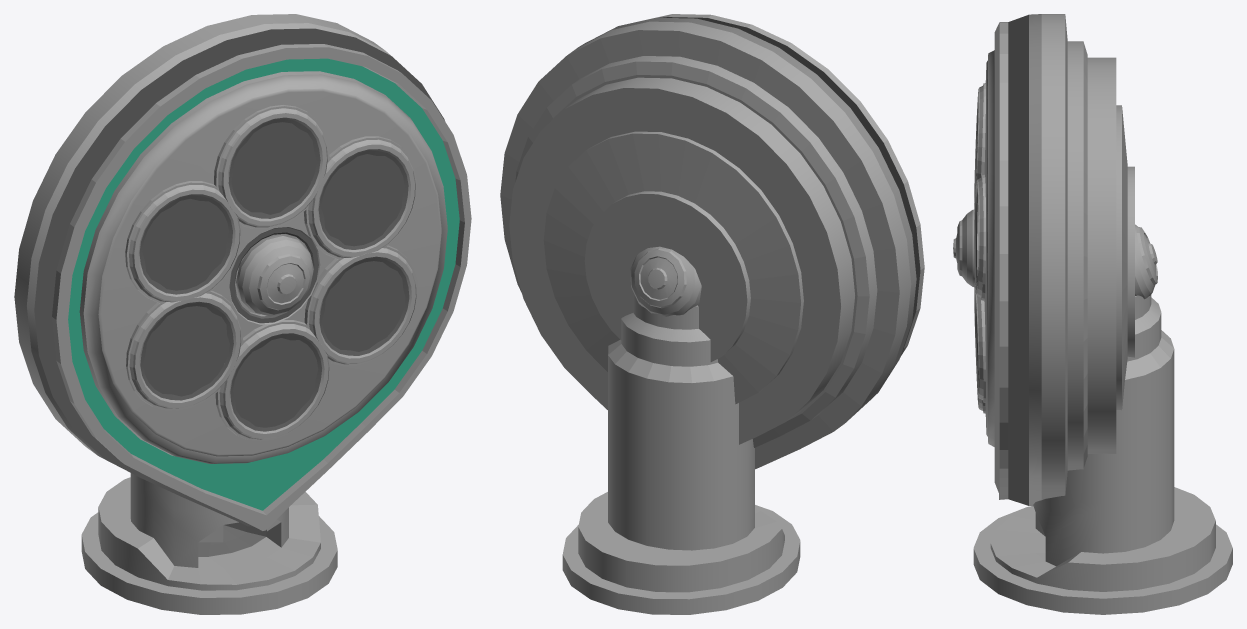
The model's file is alien panel and door.fbx.
3 renders of one model, left to right at view 1: azimuth 30°, elevation 25°; view 2: azimuth 150°, elevation 25°; view 3: azimuth 270°, elevation 25°, orthographic. The views are drawn at different scales.
Visible parts, largest first — view 1: Base1, pCylinder16 (×6), pCylinder30, pCylinder31, pCylinder32, pSphere1, pCylinder25, pCylinder35, pCylinder33, pCylinder34, pCylinder8; view 2: Base1, pCylinder30, pSphere2; view 3: Base1, pCylinder30, pCylinder35, pSphere2, pSphere1, pCylinder34, pCylinder32.
Boxes of the visible parts, x1=… form: Base1: x1=14, y1=14, x2=471, y2=530; pCylinder16 (×6): x1=142, y1=122, x2=405, y2=427; pCylinder30: x1=81, y1=473, x2=337, y2=614; pCylinder31: x1=125, y1=181, x2=242, y2=303; pCylinder32: x1=214, y1=105, x2=329, y2=229; pSphere1: x1=236, y1=235, x2=313, y2=316; pCylinder25: x1=126, y1=291, x2=243, y2=410; pCylinder35: x1=304, y1=136, x2=417, y2=259; pCylinder33: x1=215, y1=320, x2=330, y2=441; pCylinder34: x1=304, y1=245, x2=417, y2=366; pCylinder8: x1=229, y1=227, x2=320, y2=324; Base1: x1=500, y1=14, x2=924, y2=469; pCylinder30: x1=562, y1=292, x2=800, y2=614; pSphere2: x1=630, y1=246, x2=701, y2=316; Base1: x1=984, y1=14, x2=1134, y2=506; pCylinder30: x1=973, y1=295, x2=1232, y2=614; pCylinder35: x1=974, y1=174, x2=985, y2=300; pSphere2: x1=1135, y1=224, x2=1157, y2=299; pSphere1: x1=953, y1=209, x2=974, y2=286; pCylinder34: x1=974, y1=283, x2=985, y2=402; pCylinder32: x1=974, y1=83, x2=985, y2=202.
Bounding box in the file's own units: 6.08 × 7.47 × 3.59.
